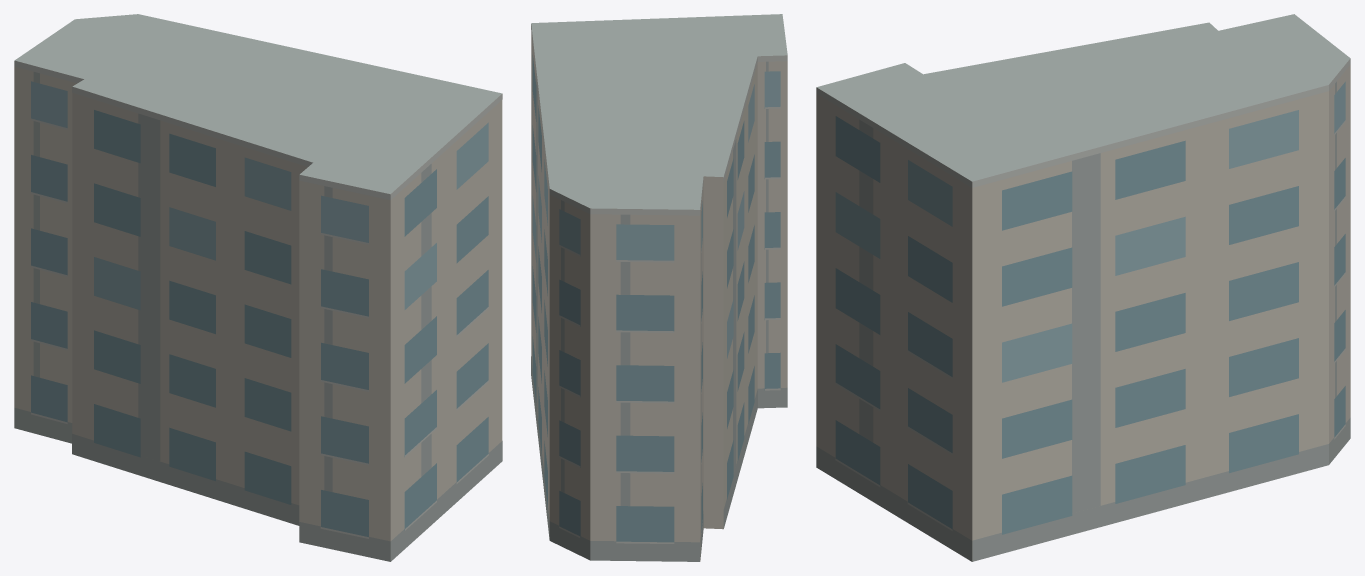
Rendered from survey-upis-32493861.glb.
3 renders of one model, left to right at view 1: azimuth 30°, elevation 25°; view 2: azimuth 150°, elevation 25°; view 3: azimuth 270°, elevation 25°, orthographic. The views are drawn at different scales.
Parts seen in each view (by area): view 1: survey-upis-32493861.tmp; view 2: survey-upis-32493861.tmp; view 3: survey-upis-32493861.tmp.
Part boxes in pixels (x1=…): survey-upis-32493861.tmp: x1=14, y1=14, x2=502, y2=561; survey-upis-32493861.tmp: x1=531, y1=14, x2=787, y2=561; survey-upis-32493861.tmp: x1=816, y1=14, x2=1350, y2=561.
Bounding box in the file's own units: 14.1 × 14.9 × 18.98.
